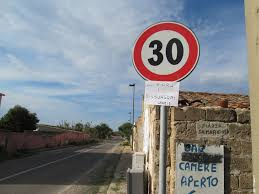Speed_limit_30km: (131, 21, 200, 82)
